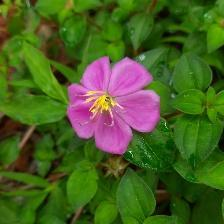malabar melastome: (67, 56, 163, 156)
